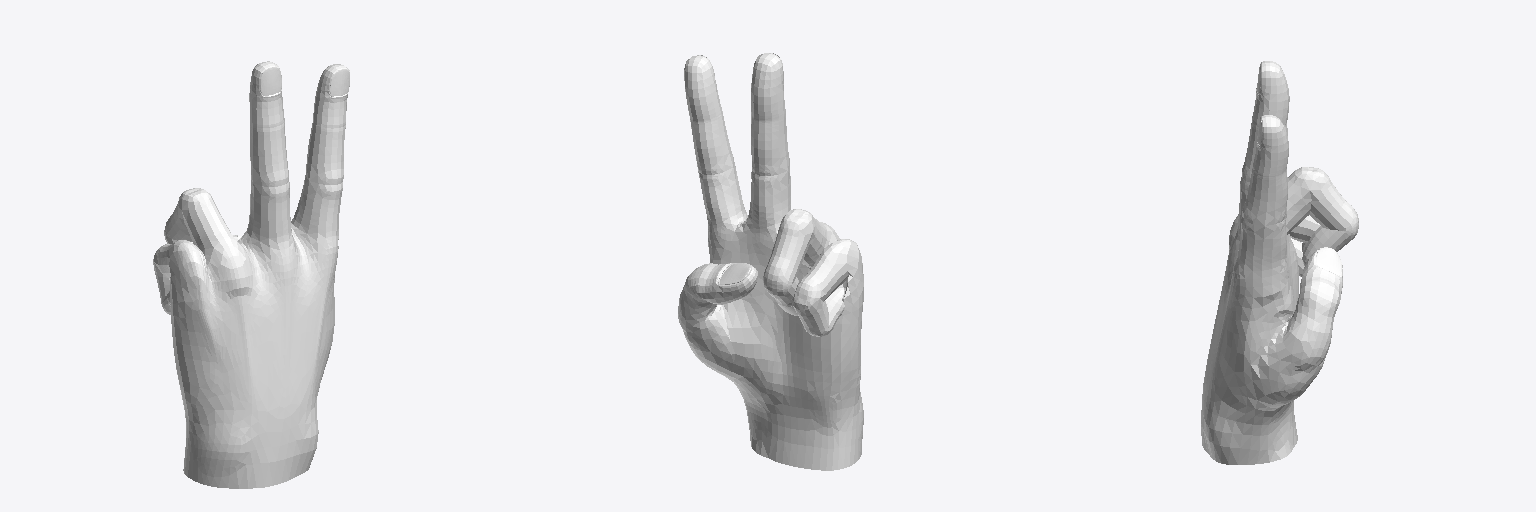
The model's file is scissorsBB.obj.
The picture shows the model from 3 angles: view 1: azimuth 30°, elevation 25°; view 2: azimuth 150°, elevation 25°; view 3: azimuth 270°, elevation 25°; orthographic projection.
Parts seen in each view (by area): view 1: Object.1; view 2: Object.1; view 3: Object.1.
Boxes of the visible parts, <box> form: Object.1: <box>153,61,349,488</box>; Object.1: <box>678,53,863,470</box>; Object.1: <box>1201,61,1358,464</box>.
Bounding box in the file's own units: 0.8 × 1.72 × 0.629.